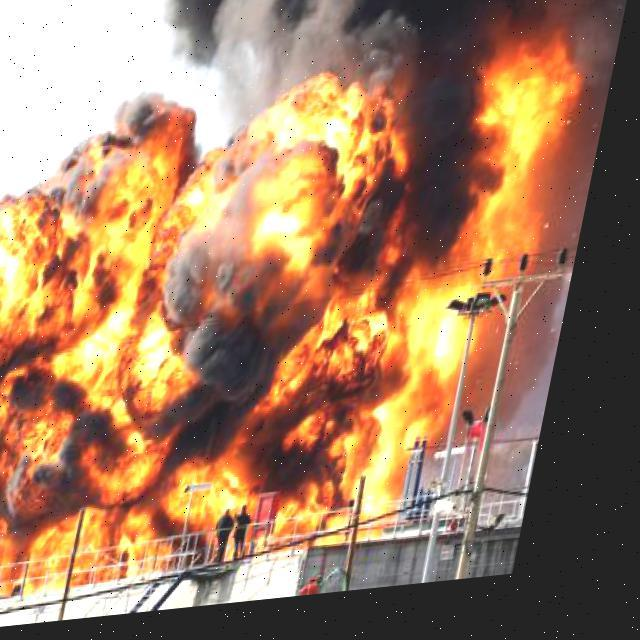Fire: (0, 16, 607, 610)
